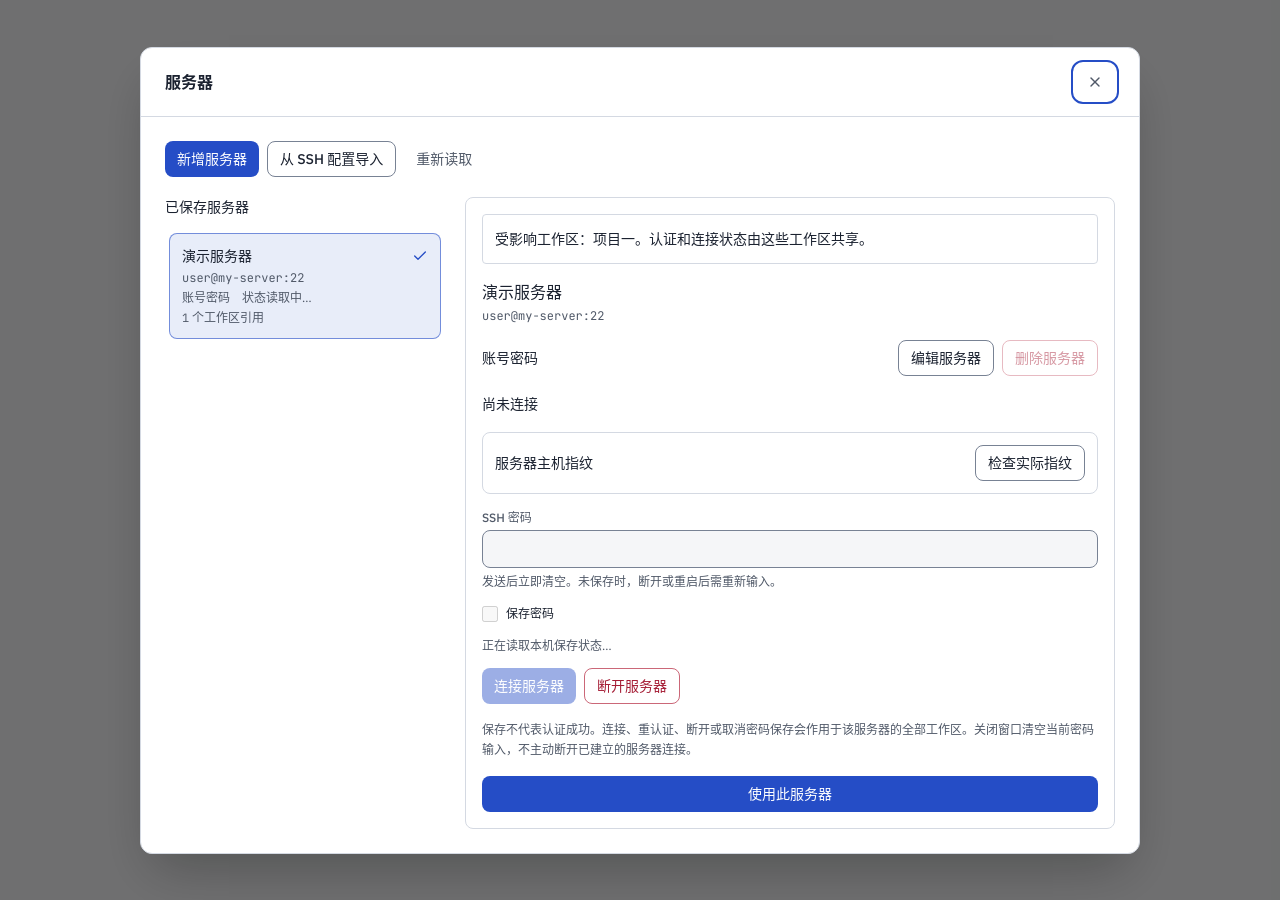
保存成功取消旧列表GET，迟到快照不能回退服务器档案
Click the button "编辑服务器". click: (946,358)
box: top-left (898, 340), bottom-right (994, 376)
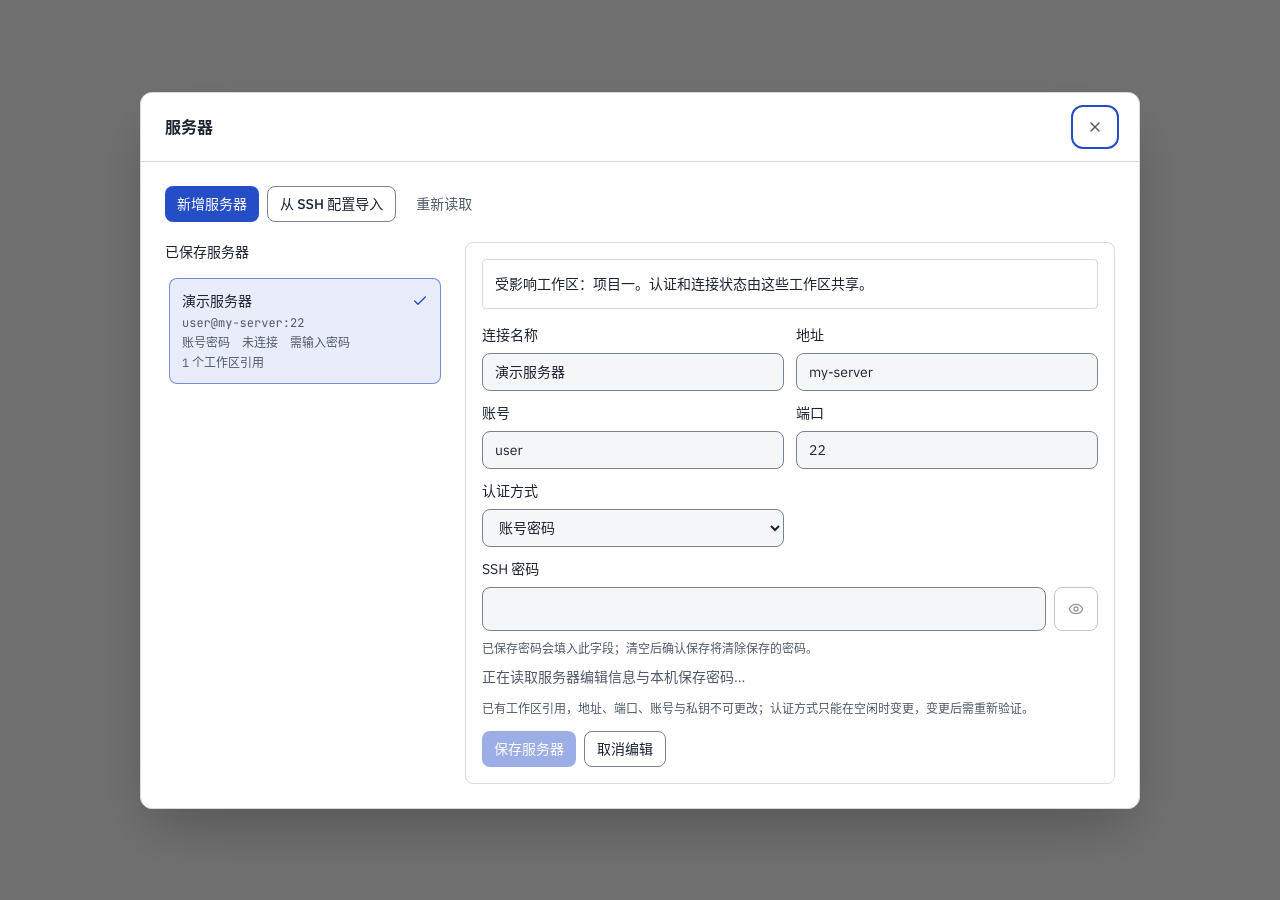
Replace the text in the field labelled "连接名称" with "已更新服务器". click: (633,372)
box: top-left (482, 352), bottom-right (784, 390)
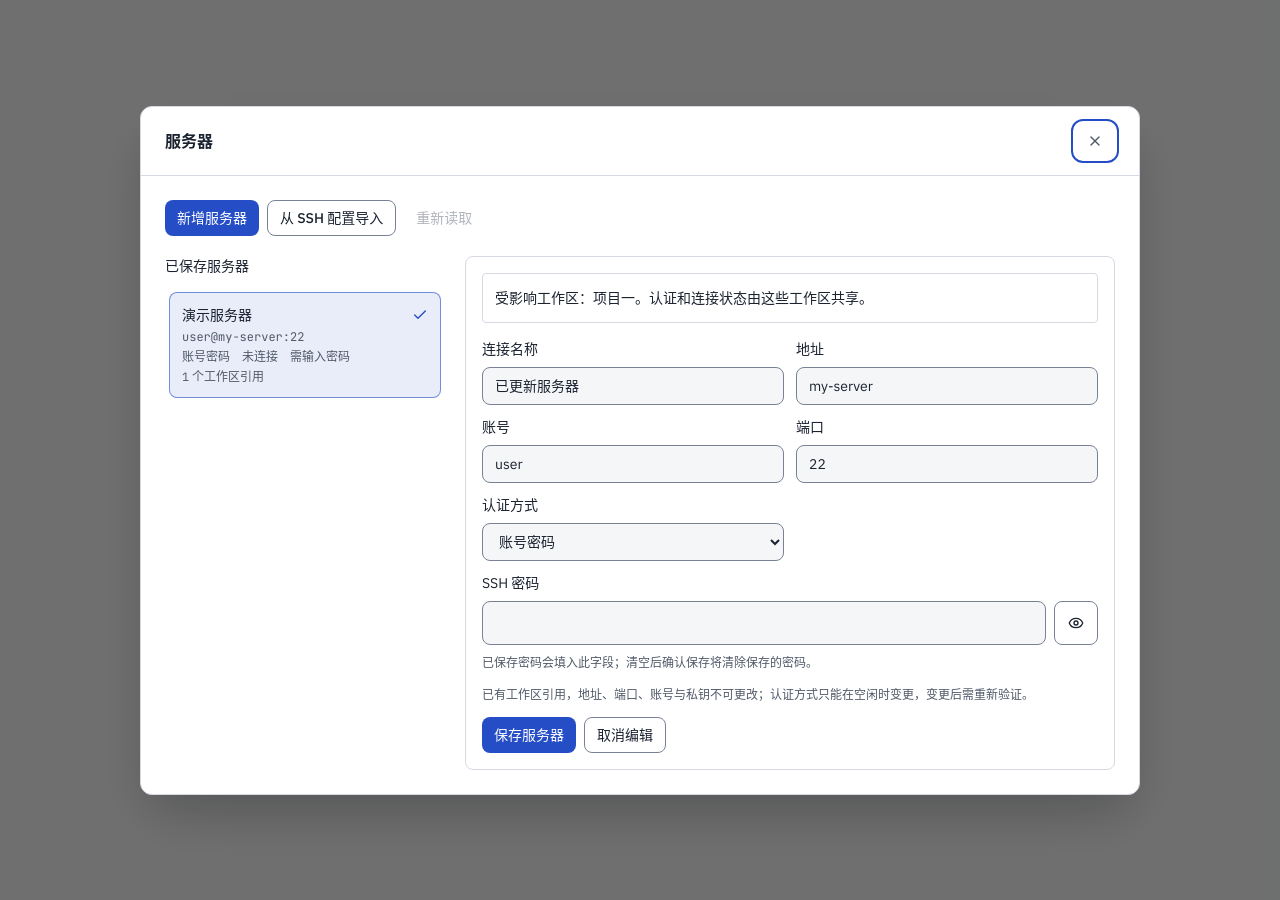
Result: the button "保存服务器" is enabled
Click the button "保存服务器". click: (529,734)
box: top-left (482, 716), bottom-right (576, 752)
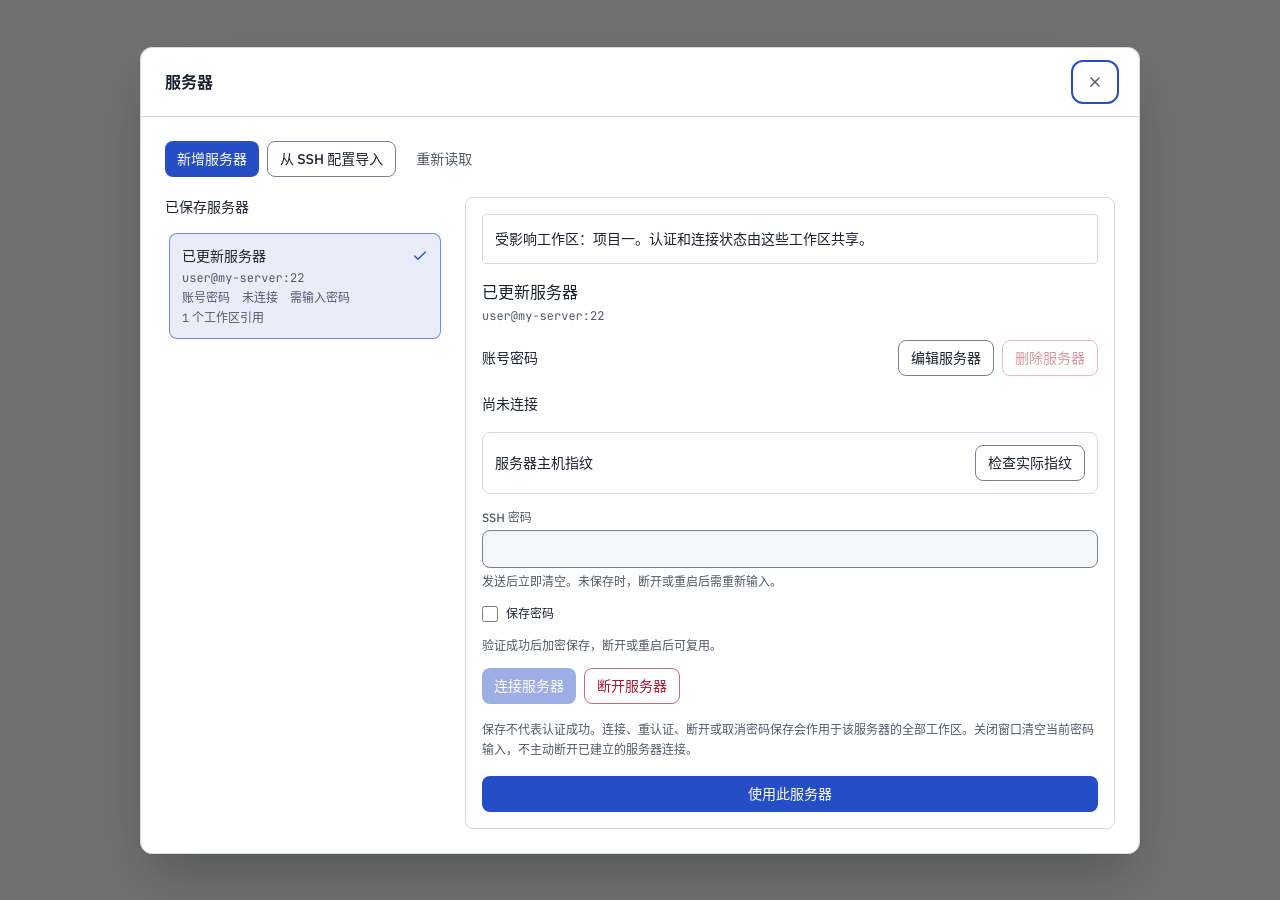
Result: the text "已更新服务器" is shown at top-left (182, 246), bottom-right (266, 264)
